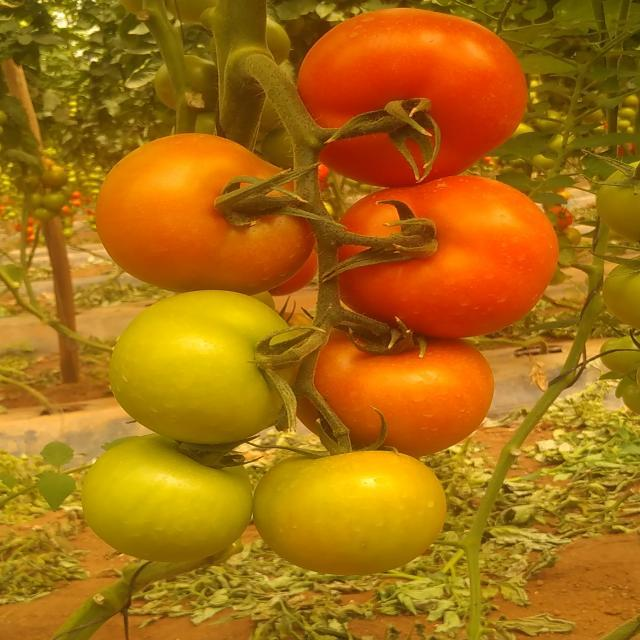Ripe Tomato: (295, 7, 532, 185), (98, 133, 312, 291), (333, 188, 554, 334), (308, 338, 486, 451)
Unripe Tomato: (99, 295, 308, 443), (261, 450, 449, 575), (71, 447, 247, 555)
